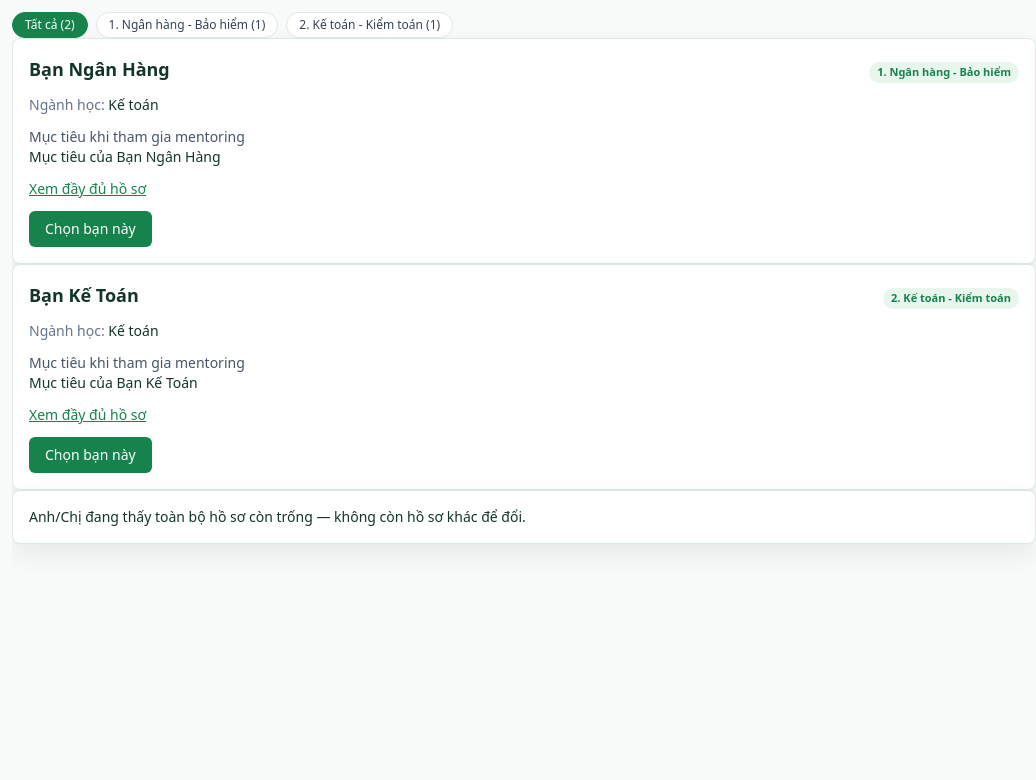
Test: lọc và xem hồ sơ › lọc theo nhóm trong cụm; số đếm trên nút trừ người đã được chọn
Click the button "2. Kế toán - Kiểm toán (1)": (370, 25) [286,12,453,38]
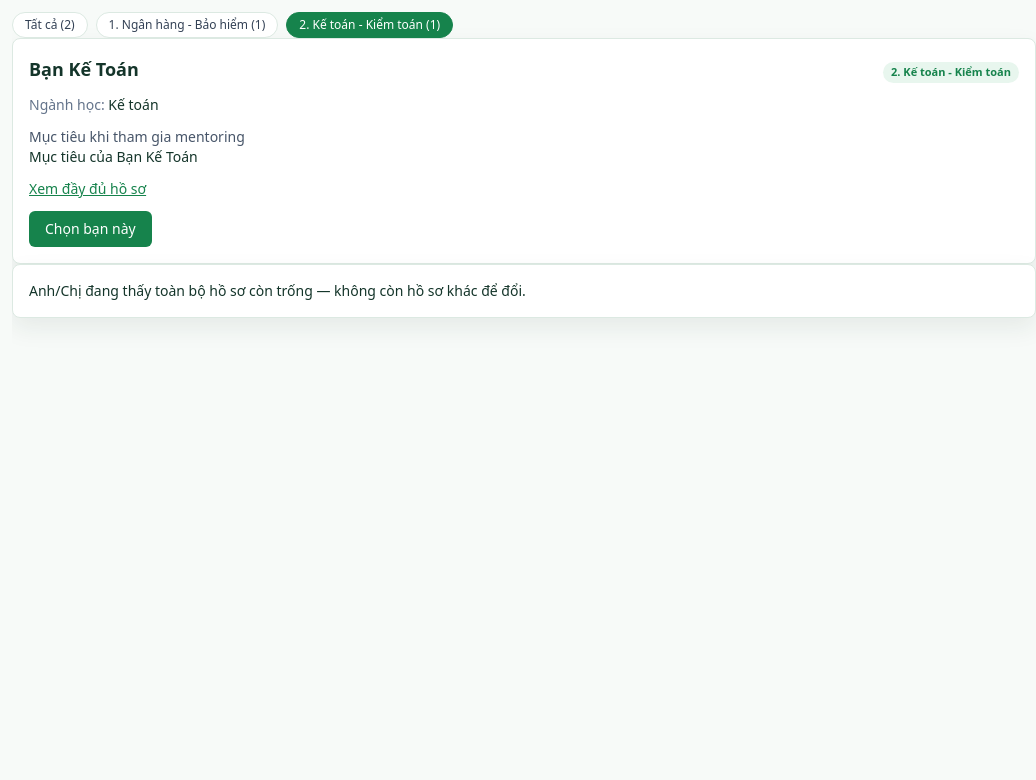
Check: the button "2. Kế toán - Kiểm toán (1)" is pressed, box [286,12,453,38]
Click the button "Tất cả (2)": (50, 25) [12,12,88,38]
Wait 20000 ms
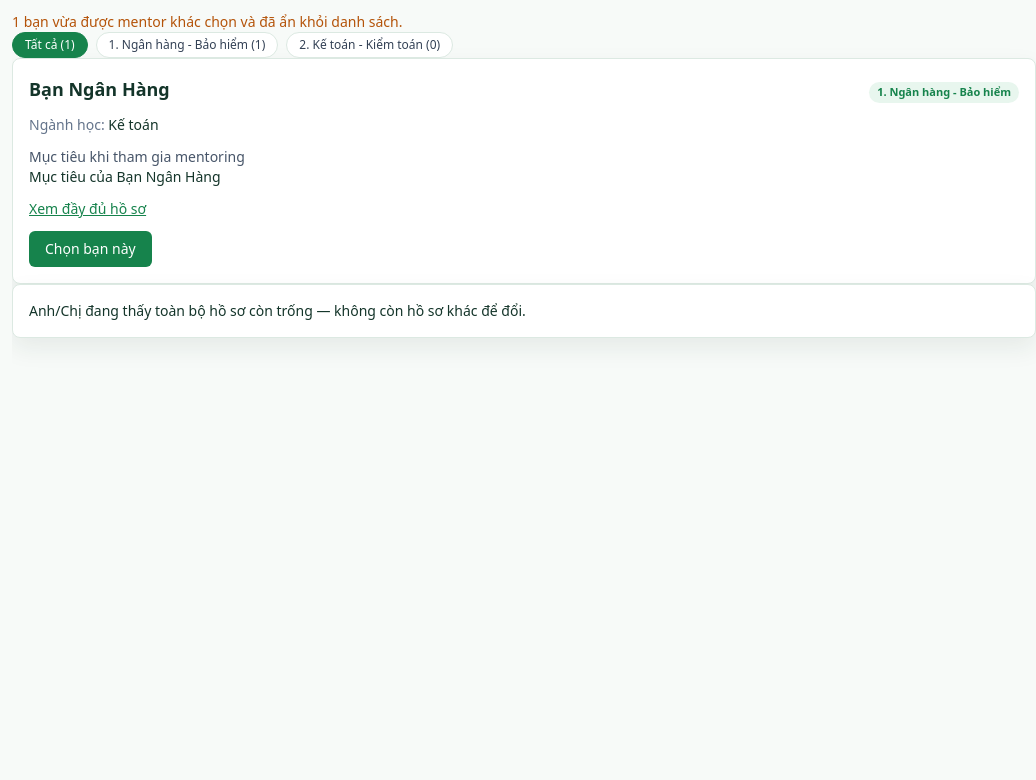
Check: the button "Tất cả (1)" is shown, box [12,32,88,58]
Check: the button "2. Kế toán - Kiểm toán (0)" is shown, box [286,32,453,58]
